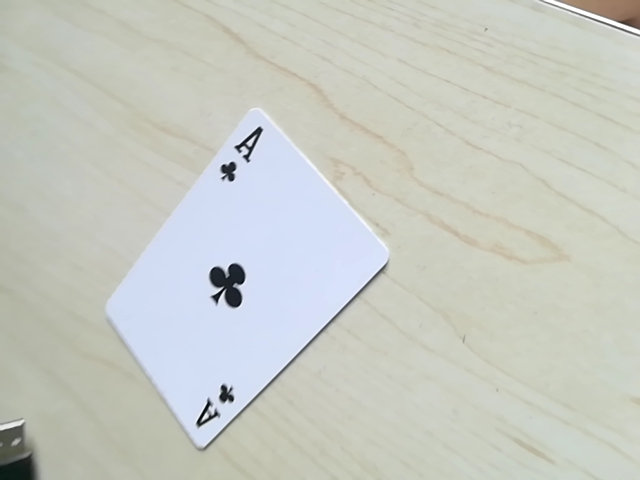mh a: (186, 373, 246, 444), (211, 120, 262, 193)
